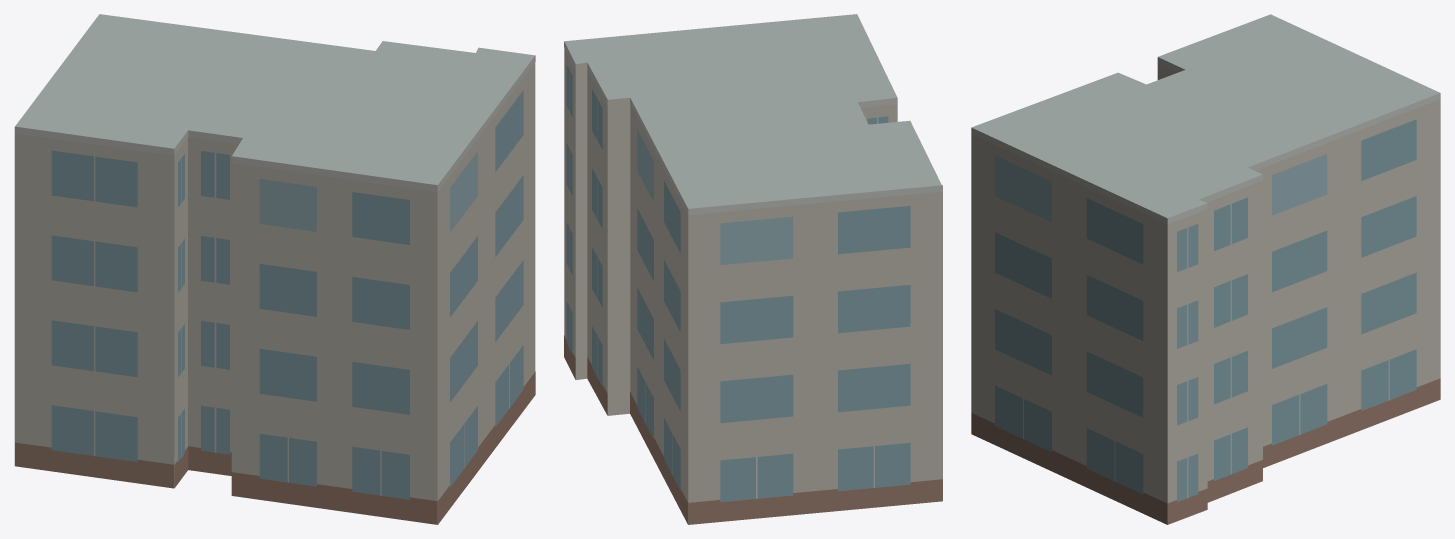
The model's file is survey-upis-32731365.glb.
The picture shows the model from 3 angles, left to right: view 1: azimuth 30°, elevation 25°; view 2: azimuth 150°, elevation 25°; view 3: azimuth 270°, elevation 25°; orthographic projection. The views are drawn at different scales.
Visible parts, largest first — view 1: survey-upis-32731365.tmp; view 2: survey-upis-32731365.tmp; view 3: survey-upis-32731365.tmp.
Boxes of the visible parts, <box> form: survey-upis-32731365.tmp: <box>14,14,535,524</box>; survey-upis-32731365.tmp: <box>564,14,942,524</box>; survey-upis-32731365.tmp: <box>971,14,1440,524</box>.
Bounding box in the file's own units: 17.44 × 12.2 × 16.93.
